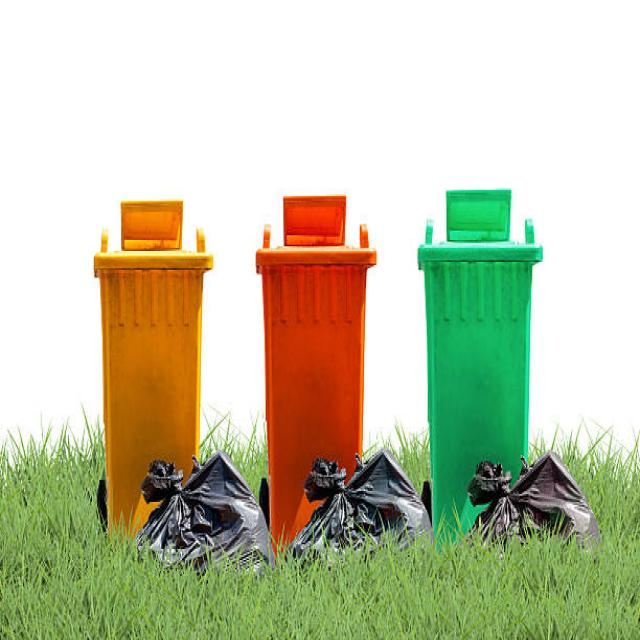trash: (104, 458, 606, 554)
